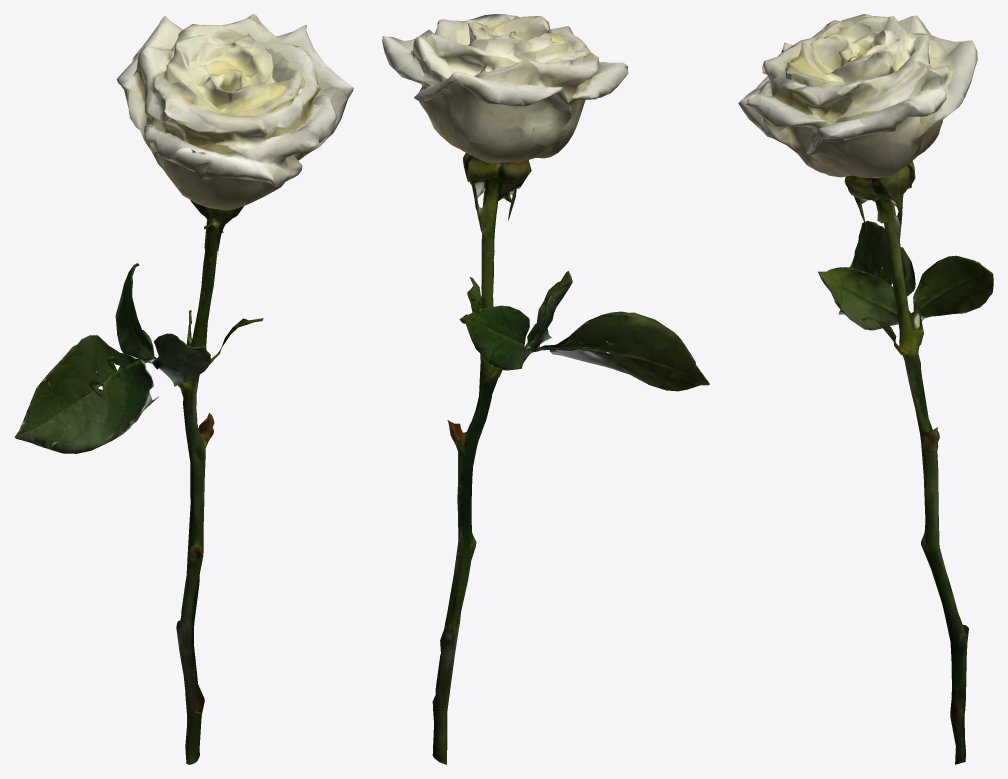
Rendered from gul-beyaz.glb.
The picture shows the model from 3 angles, left to right: view 1: azimuth 30°, elevation 25°; view 2: azimuth 150°, elevation 25°; view 3: azimuth 270°, elevation 25°; orthographic projection. The views are drawn at different scales.
Visible parts, largest first — view 1: Object_6; view 2: Object_6; view 3: Object_6.
Boxes of the visible parts, box(x1,y1,x2,y2) form: Object_6: box(14, 14, 353, 764); Object_6: box(382, 14, 709, 764); Object_6: box(738, 14, 993, 764).
Size of the model in its own units: 0.1521 by 0.3411 by 0.1088.
Materials: 1 (1 with a texture image).
